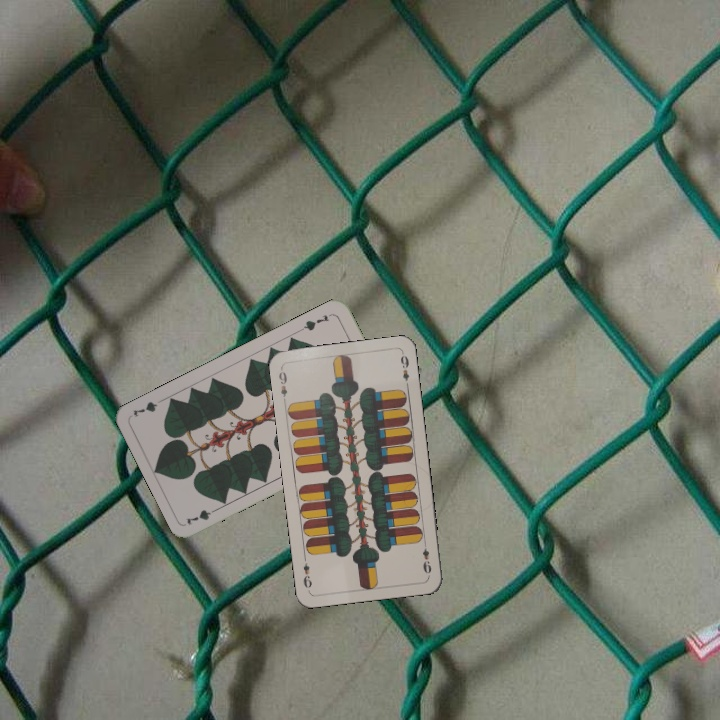E9: (275, 364, 290, 405), (419, 537, 434, 576)
G7: (182, 503, 222, 528), (297, 310, 335, 334)
